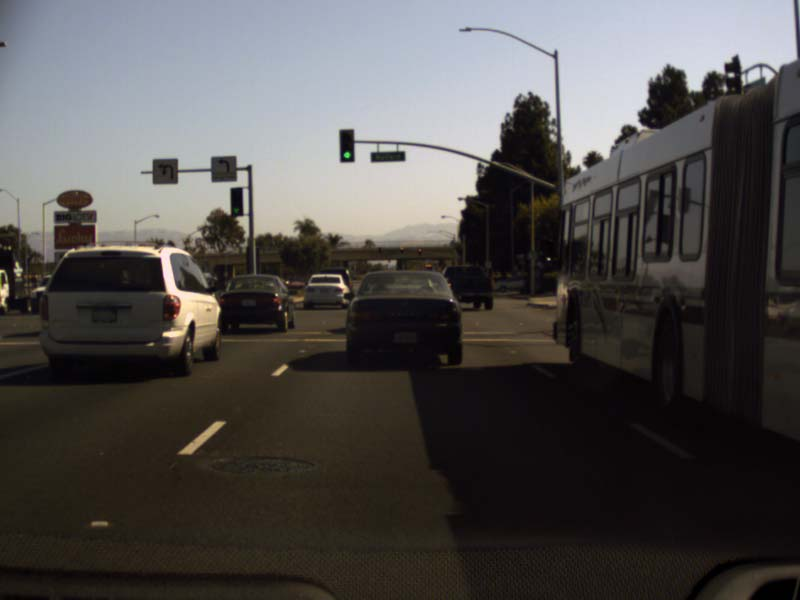Green: (338, 129, 354, 162), (230, 188, 243, 214)
Red: (399, 246, 403, 254), (417, 248, 421, 255)
